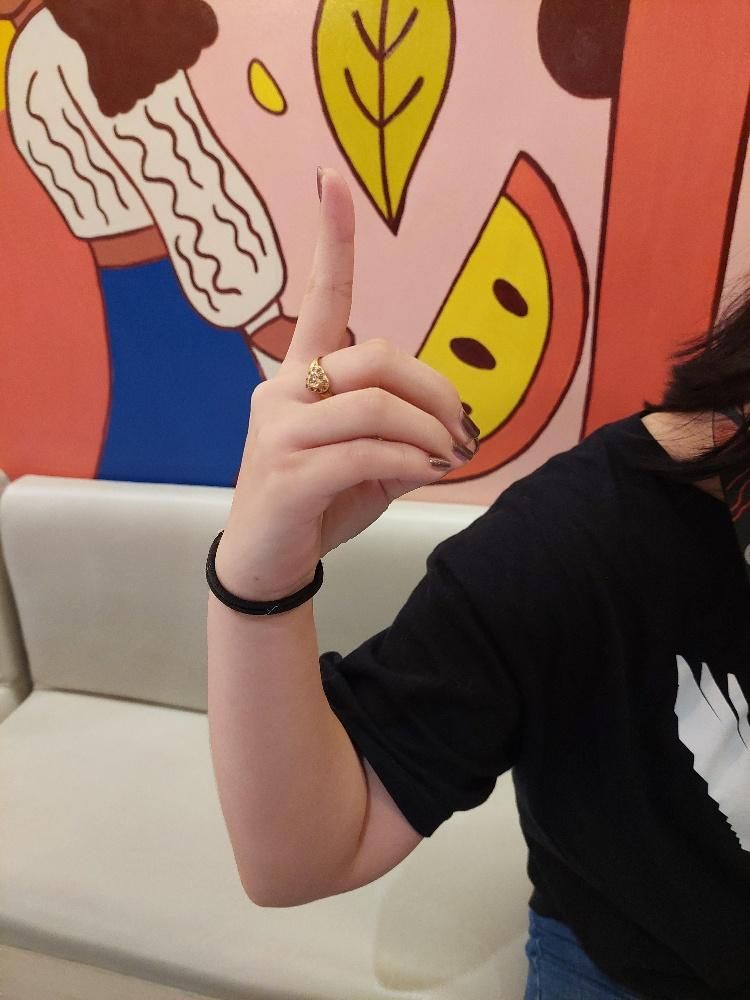d: (229, 164, 484, 577)
